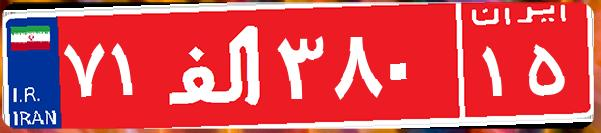0: (385, 28, 445, 110)
1: (475, 38, 525, 113), (110, 28, 158, 105)
3: (273, 28, 330, 110)
5: (525, 38, 570, 115)
7: (57, 26, 110, 107)
8: (330, 28, 385, 110)
الف: (158, 15, 273, 115)
